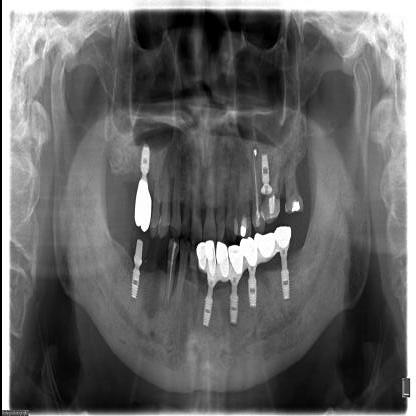Bicon: (254, 148, 274, 198), (273, 266, 294, 306), (225, 280, 240, 326), (200, 285, 214, 331), (127, 260, 141, 304), (136, 138, 151, 178), (245, 269, 259, 311)
